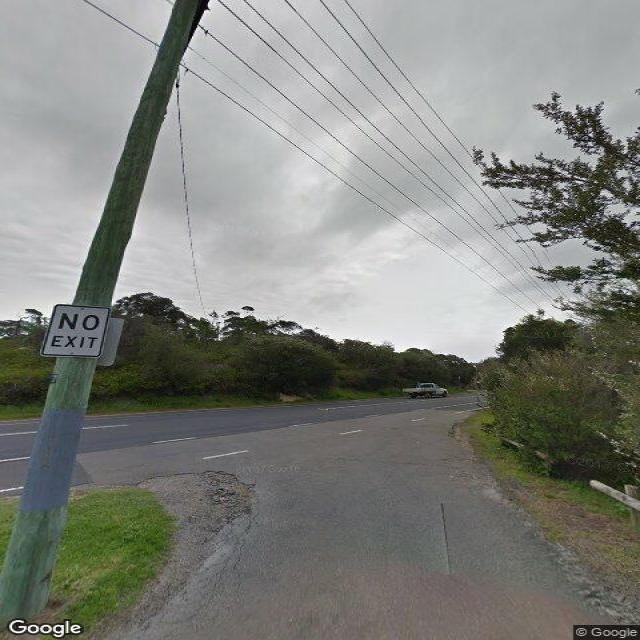timber-pole: (0, 0, 210, 629)
